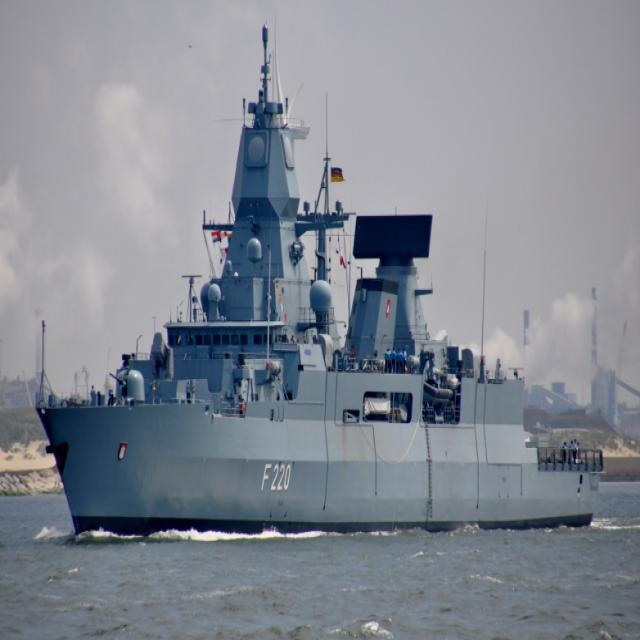Fragata: (36, 19, 606, 546)
